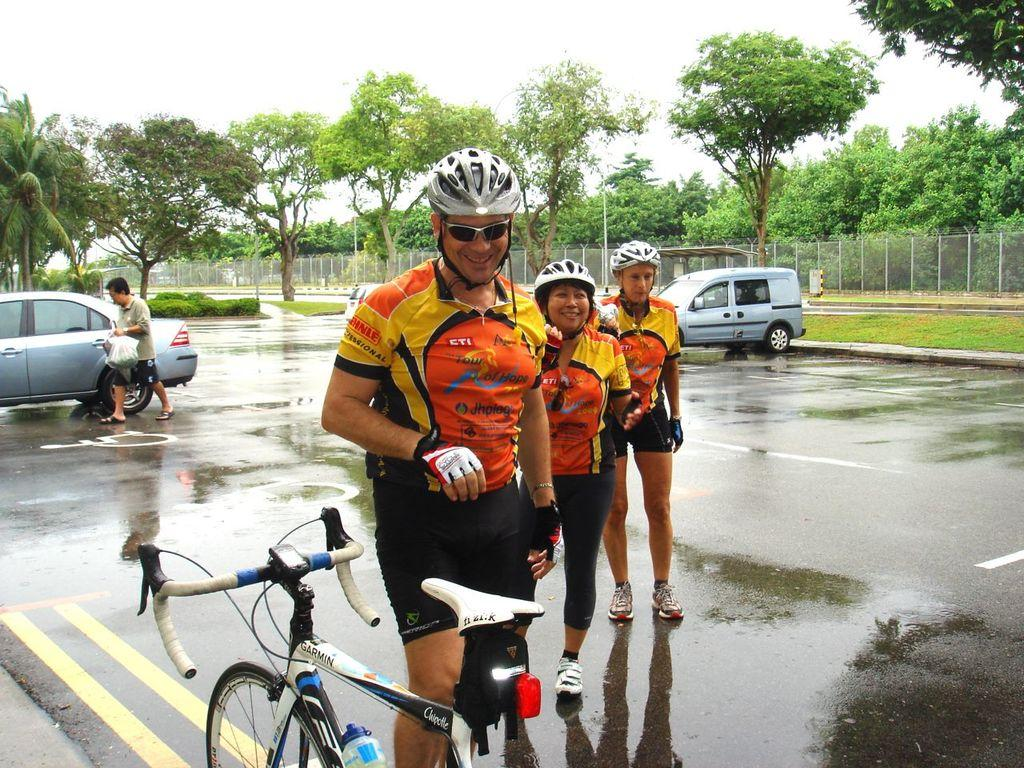vehicle: (0, 291, 198, 414), (627, 266, 807, 352)
